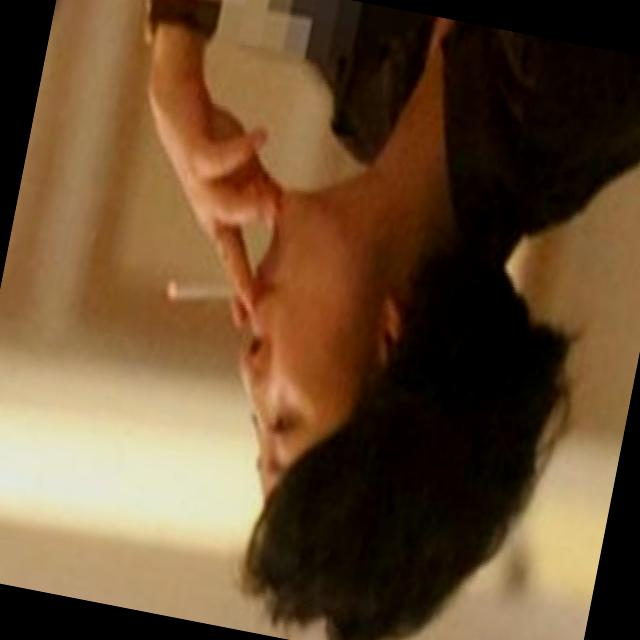smoke: (164, 261, 266, 322)
